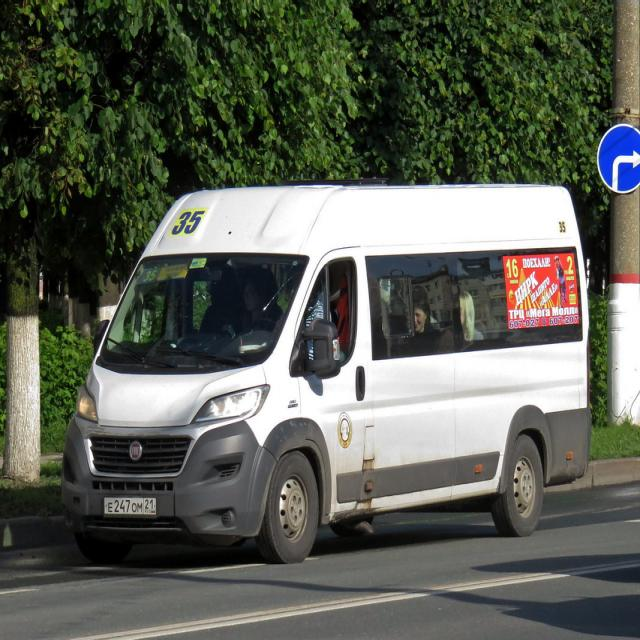number-of-bus: (172, 203, 207, 242)
